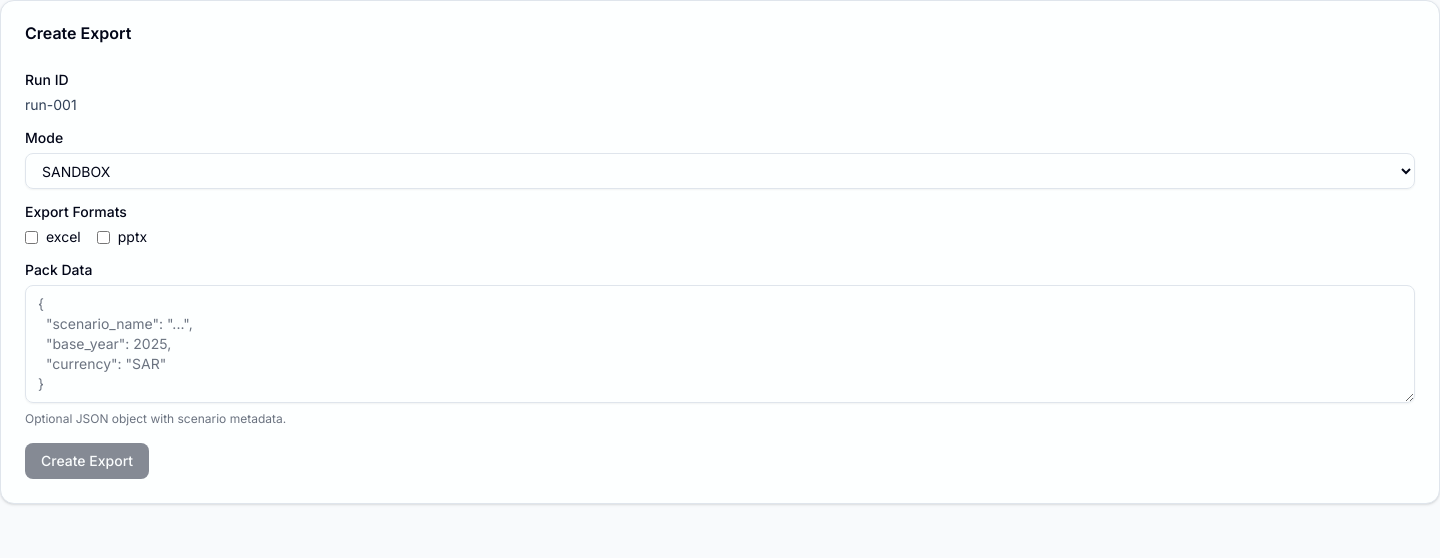
Test case: ExportForm › shows API error on failure
The image size is (1440, 558).
Click the checkbox labelled "excel".
click(32, 237)  # box [25,230,38,244]
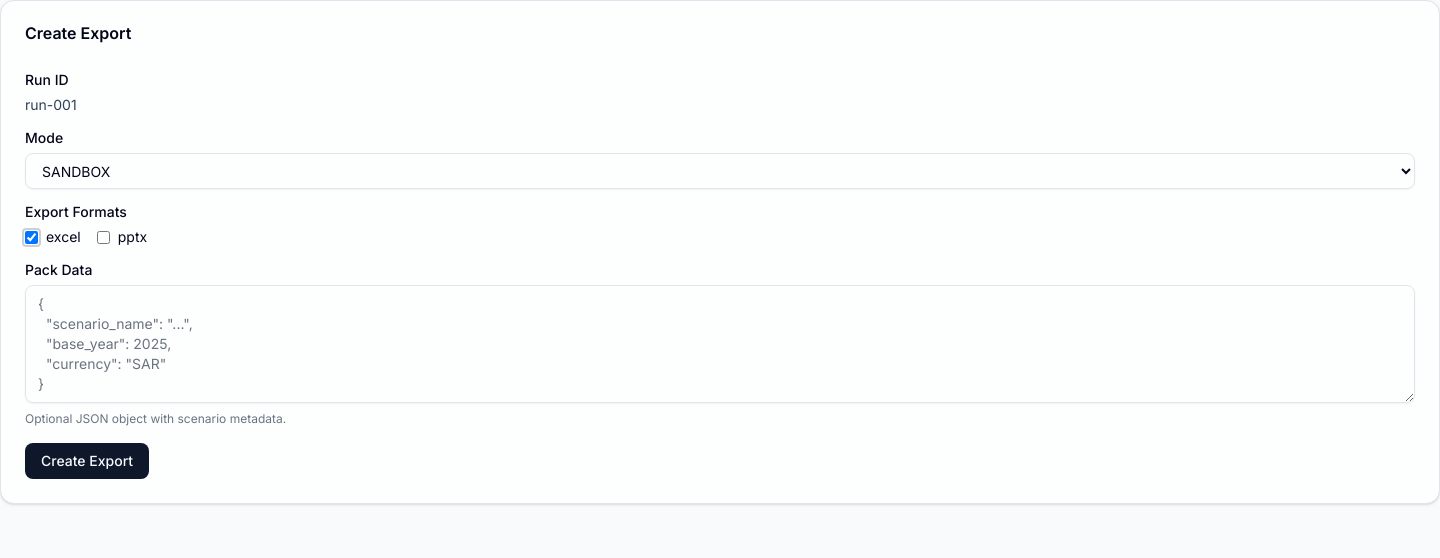
Click the button "Create Export".
click(87, 461)  # box [25,443,149,479]
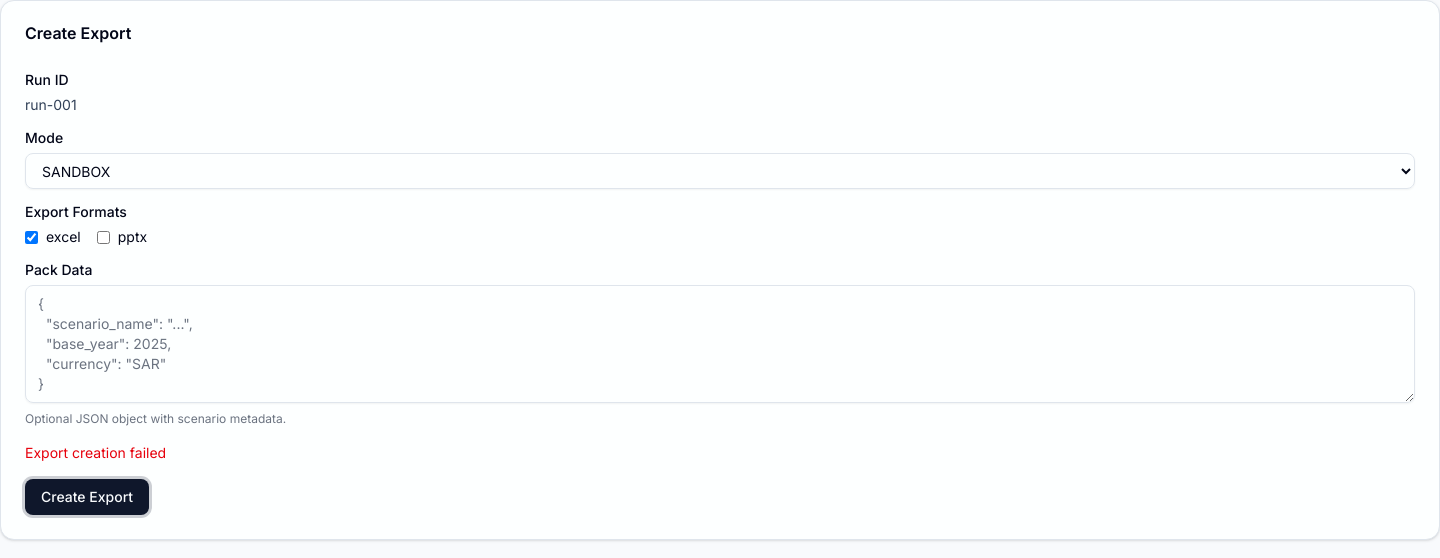
Expected: the text "Export creation failed" is shown, [25,444,166,461]
